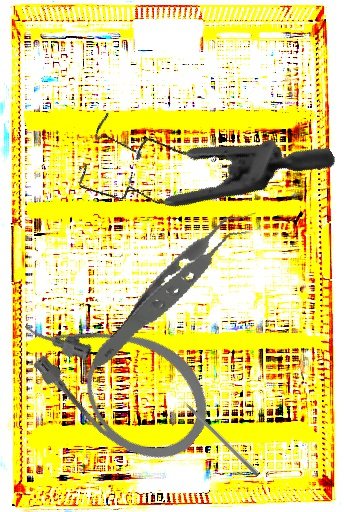Cannula: (2, 269, 230, 482)
Pusher: (172, 388, 261, 478)
Speculum: (53, 23, 339, 286)
Tissue Forceps: (66, 209, 286, 370)
